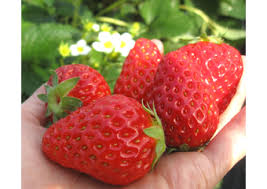ripe: (36, 88, 174, 187), (151, 32, 250, 153), (112, 25, 173, 111), (43, 61, 123, 126)
